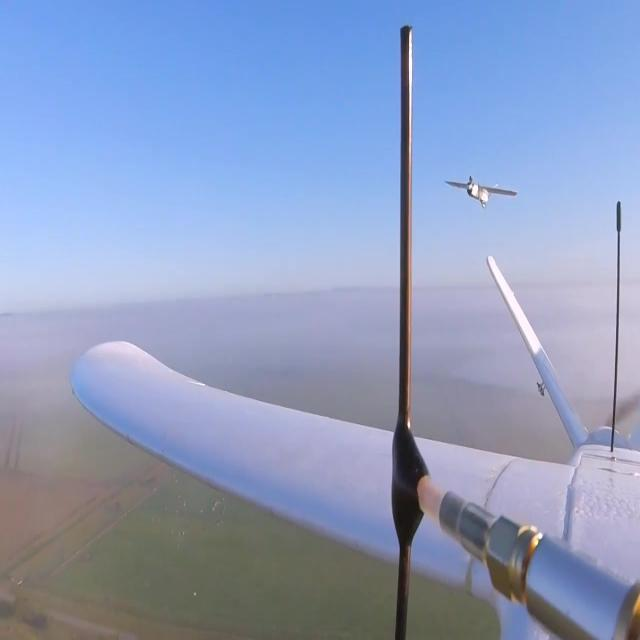iha: (480, 172, 485, 210)
